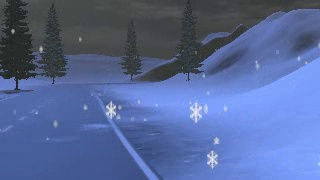Lane: (0, 83, 153, 179)
